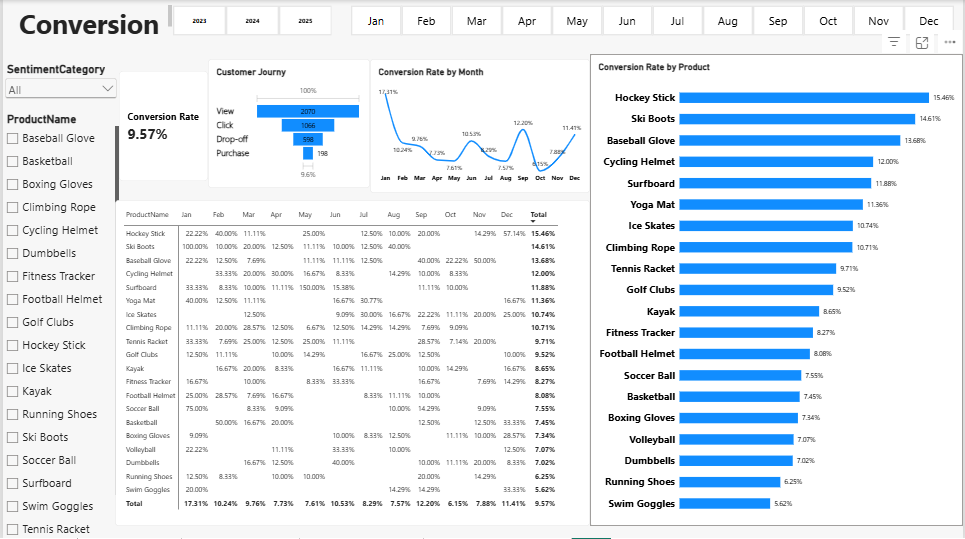

What the dashboard file says about the page in this screenshot:
{"tool":"powerbi","page":{"name":"Conversion ","canvas":[1920,1080],"ordinal":1},"visuals":[{"type":"cardVisual","fields":{"Data":["Calculation.Conversion Rate"]},"box":[232,146,178,220],"z":0},{"type":"textbox","box":[32,14,306,62],"z":1000},{"type":"slicer","fields":{"Values":["products.ProductName"]},"box":[0,228,232,852],"z":2000},{"type":"slicer","fields":{"Values":["DateTable.Year"]},"box":[320,14,356,62],"z":3000},{"type":"slicer","fields":{"Values":["DateTable.Month Short"]},"box":[676,14,1244,62],"z":4000},{"type":"lineChart","title":"Conversion Rate by Month","fields":{"Category":["DateTable.Month Short"],"Y":["Calculation.Conversion Rate"]},"box":[734,122,440,268],"z":5000},{"type":"barChart","title":"Conversion Rate by Product","fields":{"Category":["products.ProductName"],"Y":["Calculation.Conversion Rate"]},"box":[1174,112,746,944],"z":6000},{"type":"pivotTable","fields":{"Columns":["DateTable.Month Short"],"Rows":["products.ProductName"],"Values":["Calculation.Conversion Rate"]},"box":[224,404,950,652],"z":7000},{"type":"funnel","title":"Customer Journy","fields":{"Category":["customer_journey.Action"],"Y":["Calculation.customer_jouney"]},"box":[410,122,324,258],"z":8000},{"type":"slicer","fields":{"Values":["customer_reviews_sentement.SentimentCategory"]},"box":[0,128,232,100],"z":8001}]}

Visuals, with their boxes on the page's 1920x1080 design canvas (x1, y1, x2, y2). These are canvas units, not pixel positions in the 965x539 screenshot, which may show the page scaled, cropped or inside an application window:
cardVisual - Calculation.Conversion Rate: 232,146,410,366
textbox: 32,14,338,76
slicer - products.ProductName: 0,228,232,1080
slicer - DateTable.Year: 320,14,676,76
slicer - DateTable.Month Short: 676,14,1920,76
"Conversion Rate by Month" lineChart: 734,122,1174,390
"Conversion Rate by Product" barChart: 1174,112,1920,1056
pivotTable - DateTable.Month Short x products.ProductName: 224,404,1174,1056
"Customer Journy" funnel: 410,122,734,380
slicer - customer_reviews_sentement.SentimentCategory: 0,128,232,228
